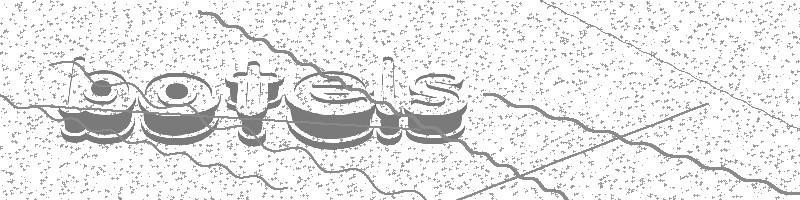b: (60, 55, 137, 148)
e: (285, 70, 376, 150)
l: (376, 55, 403, 144)
o: (140, 73, 219, 146)
s: (402, 72, 467, 145)
t: (222, 60, 284, 147)
